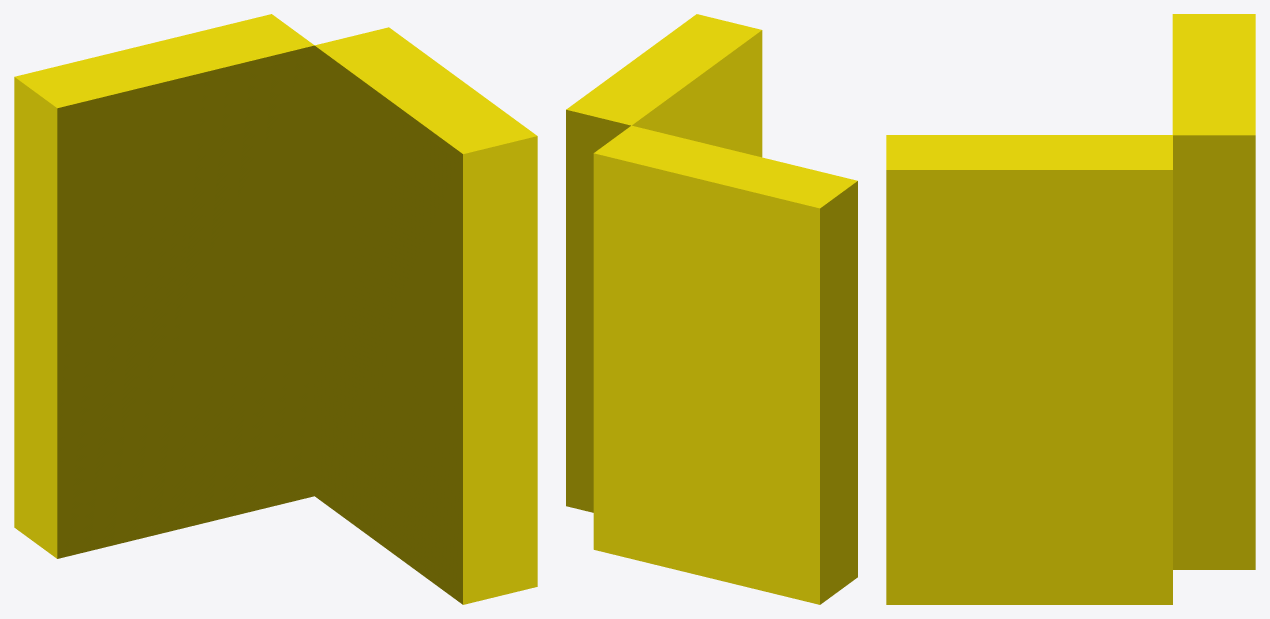
File: Inner_Corner.fbx
3 renders of one model, left to right at view 1: azimuth 30°, elevation 25°; view 2: azimuth 150°, elevation 25°; view 3: azimuth 270°, elevation 25°, orthographic. The views are drawn at different scales.
Visible parts, largest first — view 1: Wall_1; view 2: Wall_1; view 3: Wall_1.
Part boxes in pixels (x1,y1,x2,y2): Wall_1: (14,14,537,604); Wall_1: (566,14,857,604); Wall_1: (886,14,1255,604).
Bounding box in the file's own units: 129 × 167 × 129.
